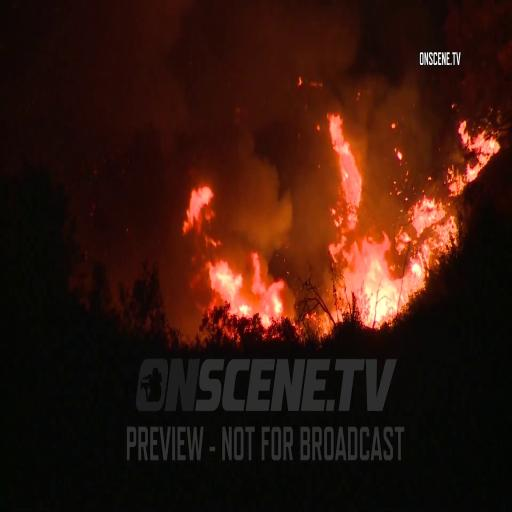fire: (316, 107, 400, 320), (181, 182, 283, 320), (406, 183, 456, 271)
